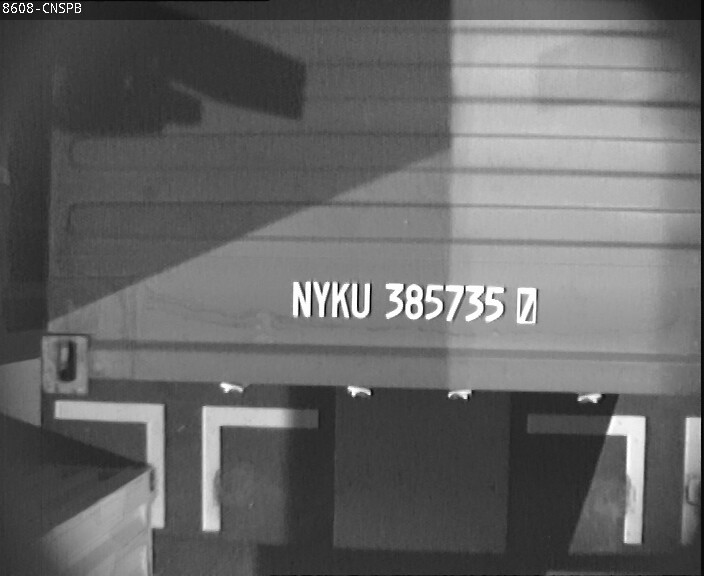groundmarker_1: (54, 399, 318, 534), (522, 415, 704, 547)
